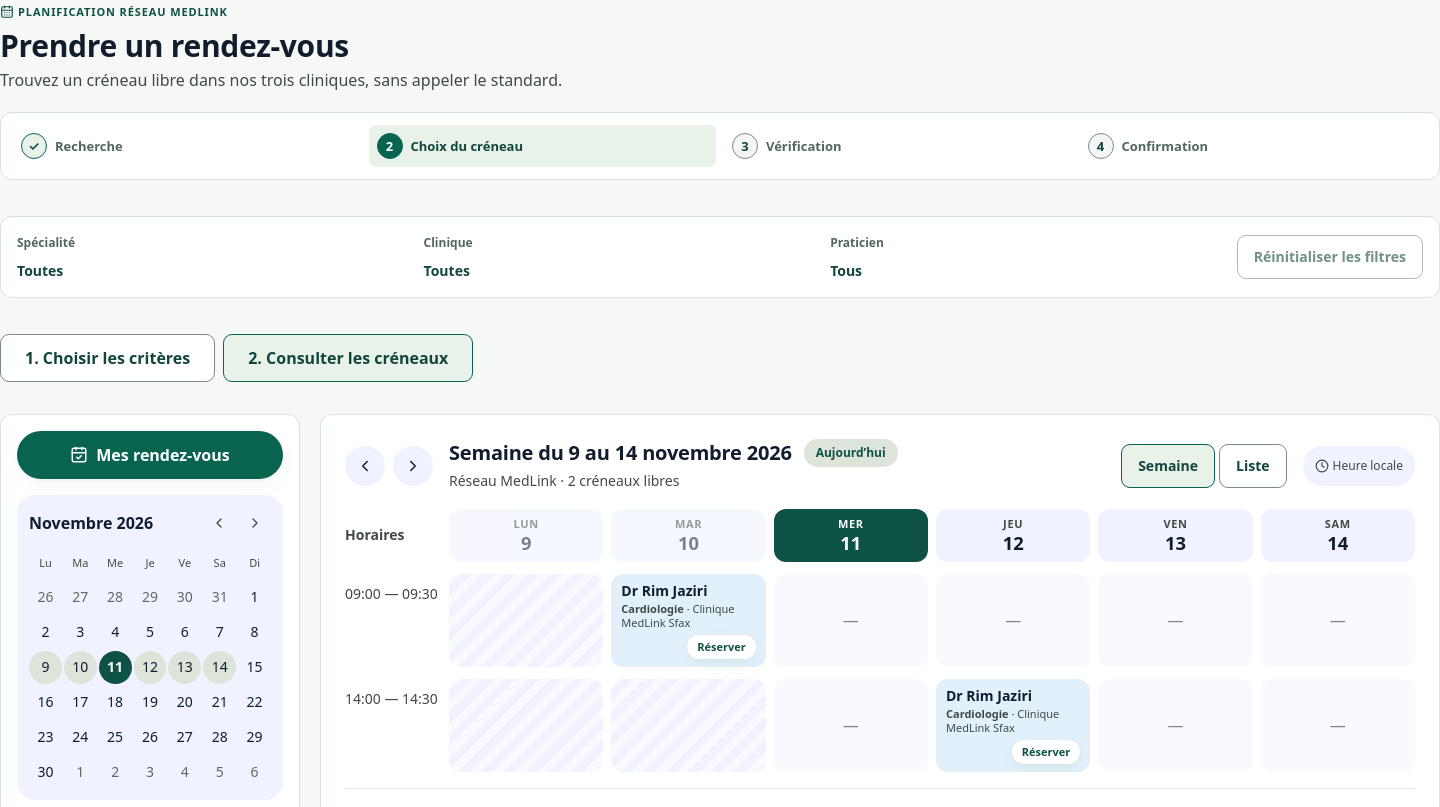
the arrows, "Aujourd’hui" and the month calendar change the week
Expected: the text "2 créneaux libres" is shown, [568,471,680,490]
Click the button named "Semaine suivante" at coordinates (413, 466), box [393,446,433,486]
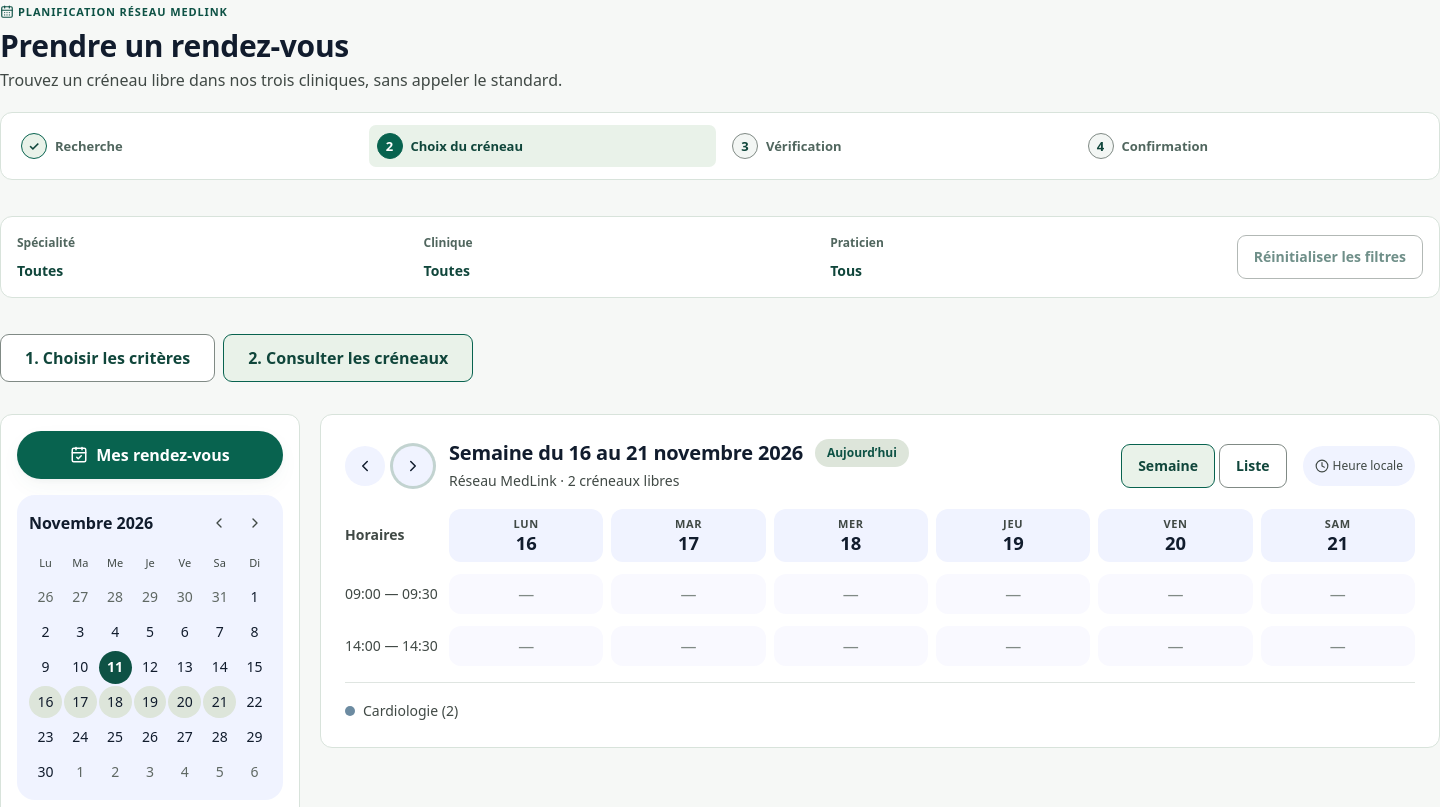
Expected: the heading "Semaine du 16 au 21 novembre 2026" is shown, [449,440,803,466]
Click the button "Aujourd’hui" at coordinates (862, 453), box [815,439,909,467]
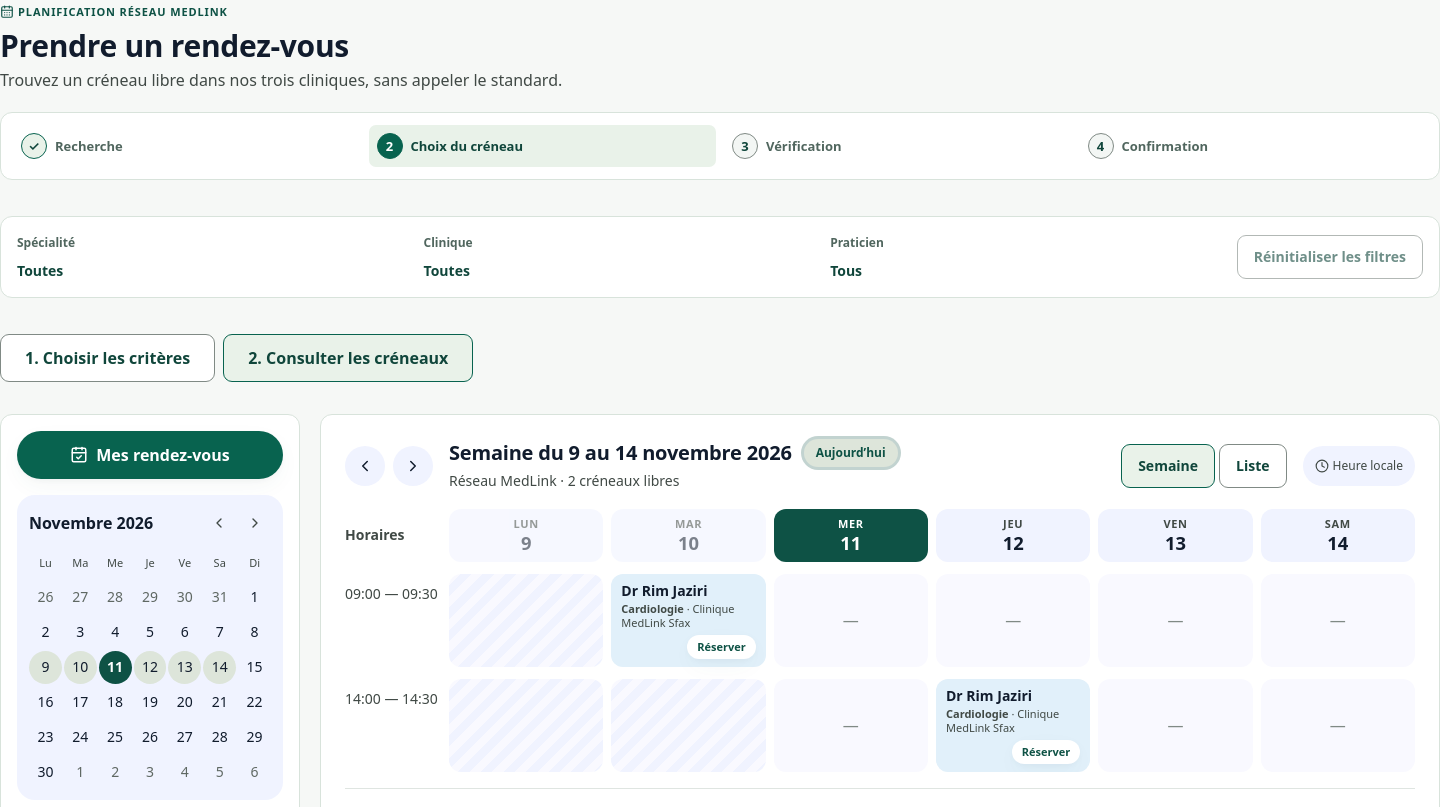
Expected: the heading "Semaine du 9 au 14 novembre 2026" is shown, [449,440,792,466]
Click the button named "vendredi 20 novembre 2026" at coordinates (185, 702), box [168,686,201,718]
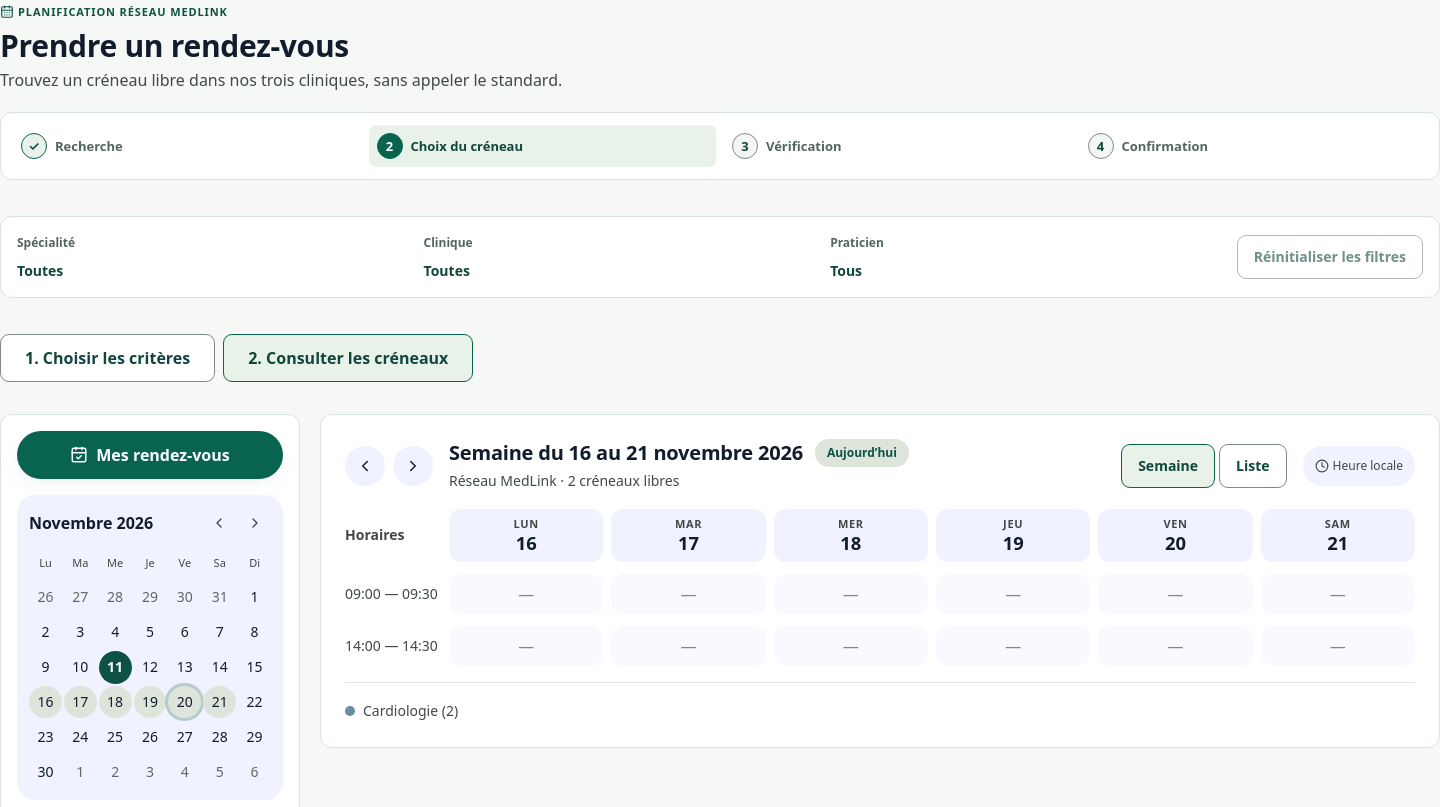
Expected: the heading "Semaine du 16 au 21 novembre 2026" is shown, [449,440,803,466]
Click the button named "Semaine précédente" at coordinates (365, 466), box [345,446,385,486]
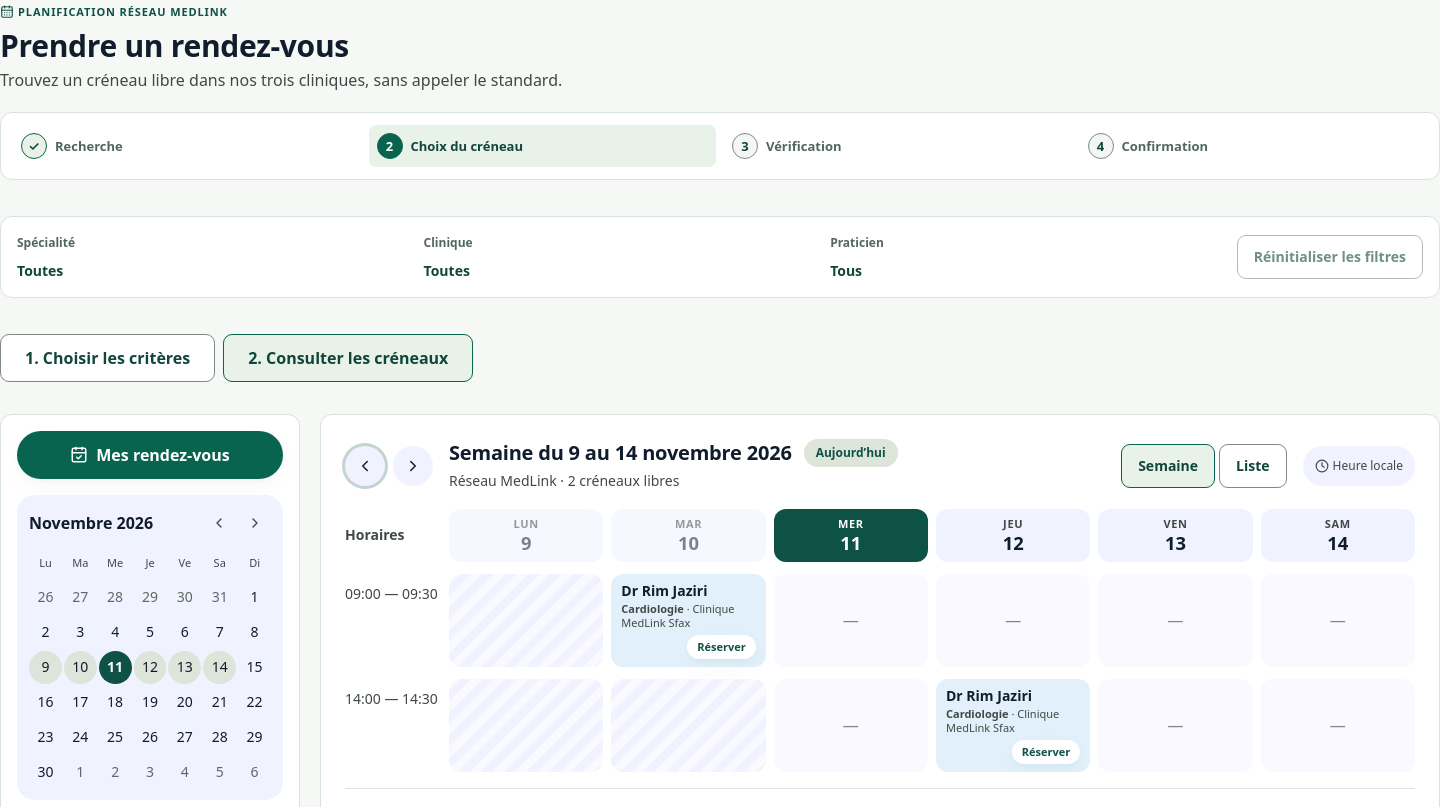
Expected: the heading "Semaine du 9 au 14 novembre 2026" is shown, [449,440,792,466]
